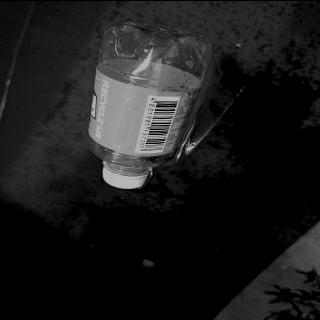bottle: (86, 18, 216, 188)
